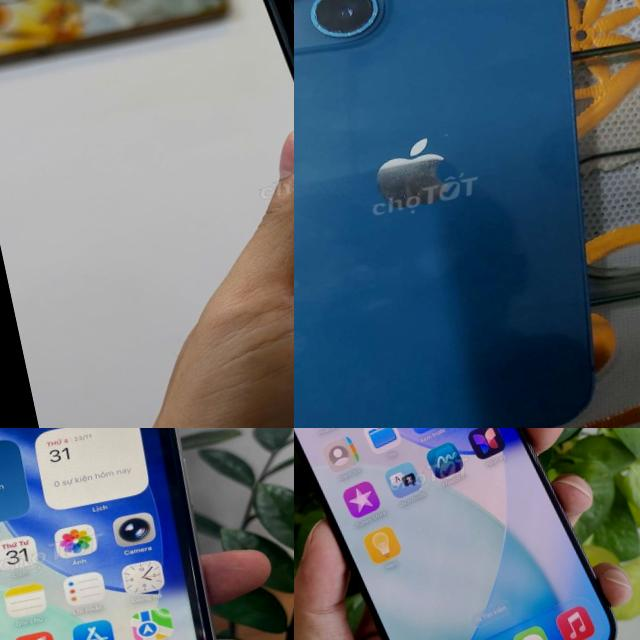gen_11: (0, 428, 273, 640), (230, 0, 294, 418)
gen_12_13: (294, 0, 640, 428)
gen_15: (294, 428, 632, 640)
